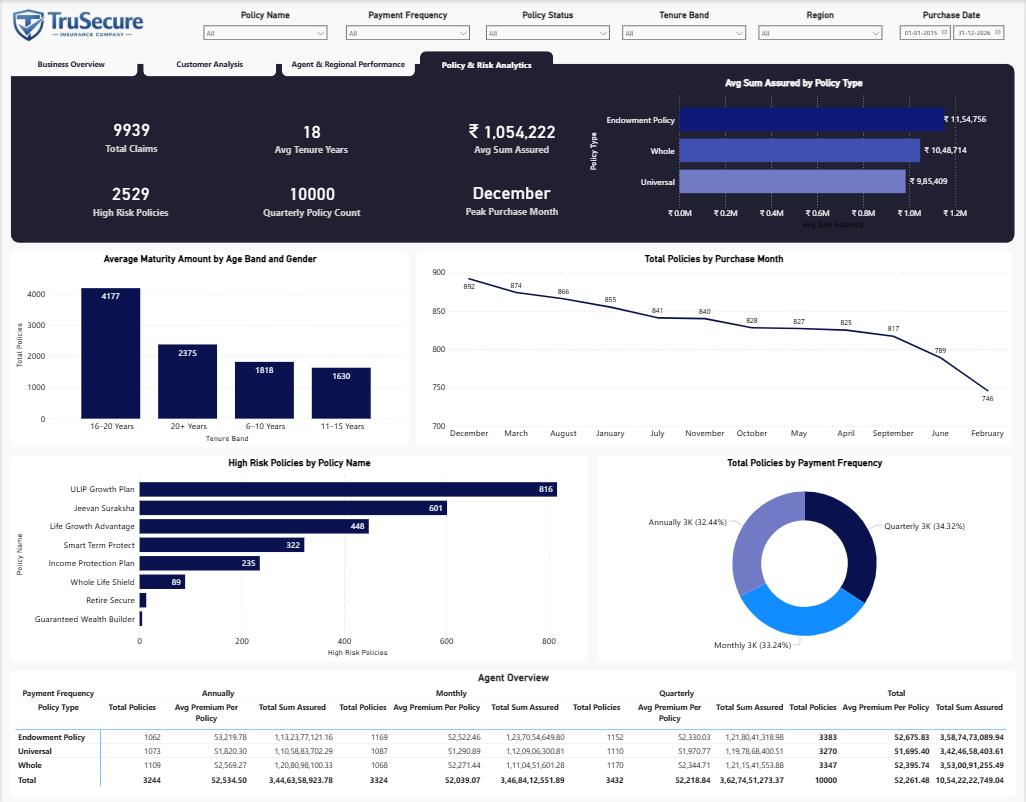

The dashboard page shown, as its layout file describes it:
{"tool":"powerbi","page":{"name":"Policy & Risk Analytics","canvas":[1940,1535],"ordinal":3},"visuals":[{"type":"shape","box":[15.6,120.3,1906,340],"z":0},{"type":"barChart","fields":{"Category":["DM Policy_Type.Policy Type"],"Y":["Measure 2.Avg Sum Assured"]},"box":[1111.4,146.3,786.3,292.6],"z":1000},{"type":"advanceCardE03760C5AB684758B56AA29F9E6C257B","fields":{"mainMeasure":["Measure 2.High Risk Policies"]},"box":[62,319.7,365.8,119.3],"z":3000},{"type":"advanceCardE03760C5AB684758B56AA29F9E6C257B","fields":{"mainMeasure":["Measure 2.Peak Purchase Month"]},"box":[786.3,319,365.7,119.9],"z":4000},{"type":"advanceCardE03760C5AB684758B56AA29F9E6C257B","fields":{"mainMeasure":["Measure 2.Avg Tenure Years"]},"box":[405.6,202,364.2,119.3],"z":5000},{"type":"advanceCardE03760C5AB684758B56AA29F9E6C257B","fields":{"mainMeasure":["Measure 2.Total Claims"]},"box":[63.6,200.4,364.2,119.3],"z":6000},{"type":"slicer","title":"Policy Status","fields":{"Values":["DM Zonal_Manager.Zonal Manager Name","FCT Insurance_Policy_Table.Policy Status"]},"box":[908.9,18,255,80.1],"z":7000},{"type":"slicer","title":"Region","fields":{"Values":["DM Regional_Manager.Region"]},"box":[1427,18,255,80.1],"z":8000},{"type":"slicer","title":"Purchase Date","fields":{"Values":["Calendar.Date"]},"box":[1693.1,17.8,222,70],"z":9000},{"type":"slicer","title":"Tenure Band","fields":{"Values":["FCT Insurance_Policy_Table.Tenure Band"]},"box":[1167.1,18,255,80.1],"z":10000},{"type":"pageNavigator","box":[5.7,96.6,1045.4,48.3],"z":11000},{"type":"image","box":[0,0,288,88],"z":12000},{"type":"pivotTable","title":"Agent Overview","fields":{"Rows":["DM Policy_Type.Policy Type"],"Columns":["FCT Insurance_Policy_Table.Payment Frequency"],"Values":["Measure.Total Policies","Measure.Avg Premium Per Policy","Measure.Total Sum Assured"]},"box":[16.3,1271.9,1907.9,241.8],"z":13000},{"type":"columnChart","title":"Average Maturity Amount by Age Band and Gender","fields":{"Category":["FCT Insurance_Policy_Table.Tenure Band"],"Y":["Measure.Total Policies"]},"box":[16.3,477.5,755.8,371.8],"z":14000},{"type":"slicer","title":"Policy Name","fields":{"Values":["DM Policy_Protection_Plan.Policy Name"]},"box":[372.7,18,255,80.1],"z":15000},{"type":"slicer","title":"Payment Frequency","fields":{"Values":["FCT Insurance_Policy_Table.Payment Frequency"]},"box":[642.4,18,255,80.1],"z":16000},{"type":"advanceCardE03760C5AB684758B56AA29F9E6C257B","fields":{"mainMeasure":["Measure 2.Quarterly Policy Count"]},"box":[406.4,321,365.7,119.9],"z":17000},{"type":"advanceCardE03760C5AB684758B56AA29F9E6C257B","fields":{"mainMeasure":["Measure 2.Avg Sum Assured"]},"box":[786.3,201.2,365.7,119.9],"z":18000},{"type":"donutChart","fields":{"Y":["Measure.Total Policies"],"Category":["FCT Insurance_Policy_Table.Payment Frequency"]},"box":[1129.7,863.5,788.4,392.1],"z":21000},{"type":"lineChart","fields":{"Category":["FCT Insurance_Policy_Table.Purchase Month"],"Y":["Measure.Total Policies"]},"box":[786.3,477.5,1131.7,371.8],"z":21001},{"type":"clusteredBarChart","fields":{"Category":["DM Policy_Protection_Plan.Policy Name"],"Y":["Measure 2.High Risk Policies"]},"box":[16.3,863.5,1095.2,392.1],"z":21002}]}

Visuals, with their boxes in screenshot pixels (x1, y1, x2, y2), scaled from the page's 1940x1535 canvas onto the 1026x802 screenshot:
shape: bbox=[8, 63, 1016, 240]
barChart - DM Policy_Type.Policy Type x Measure 2.Avg Sum Assured: bbox=[588, 76, 1004, 229]
advanceCardE03760C5AB684758B56AA29F9E6C257B - Measure 2.High Risk Policies: bbox=[33, 167, 226, 229]
advanceCardE03760C5AB684758B56AA29F9E6C257B - Measure 2.Peak Purchase Month: bbox=[416, 167, 609, 229]
advanceCardE03760C5AB684758B56AA29F9E6C257B - Measure 2.Avg Tenure Years: bbox=[215, 106, 407, 168]
advanceCardE03760C5AB684758B56AA29F9E6C257B - Measure 2.Total Claims: bbox=[34, 105, 226, 167]
"Policy Status" slicer: bbox=[481, 9, 616, 51]
"Region" slicer: bbox=[755, 9, 890, 51]
"Purchase Date" slicer: bbox=[895, 9, 1013, 46]
"Tenure Band" slicer: bbox=[617, 9, 752, 51]
pageNavigator: bbox=[3, 50, 556, 76]
image: bbox=[0, 0, 152, 46]
"Agent Overview" pivotTable: bbox=[9, 665, 1018, 791]
"Average Maturity Amount by Age Band and Gender" columnChart: bbox=[9, 249, 408, 444]
"Policy Name" slicer: bbox=[197, 9, 332, 51]
"Payment Frequency" slicer: bbox=[340, 9, 475, 51]
advanceCardE03760C5AB684758B56AA29F9E6C257B - Measure 2.Quarterly Policy Count: bbox=[215, 168, 408, 230]
advanceCardE03760C5AB684758B56AA29F9E6C257B - Measure 2.Avg Sum Assured: bbox=[416, 105, 609, 168]
donutChart - Measure.Total Policies x FCT Insurance_Policy_Table.Payment Frequency: bbox=[597, 451, 1014, 656]
lineChart - FCT Insurance_Policy_Table.Purchase Month x Measure.Total Policies: bbox=[416, 249, 1014, 444]
clusteredBarChart - DM Policy_Protection_Plan.Policy Name x Measure 2.High Risk Policies: bbox=[9, 451, 588, 656]
